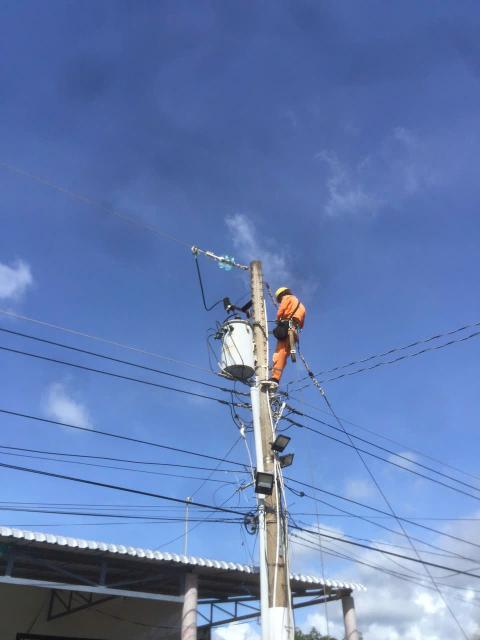harness: (271, 316, 303, 332)
helmet: (269, 284, 292, 298)
shoes: (258, 375, 283, 388)
